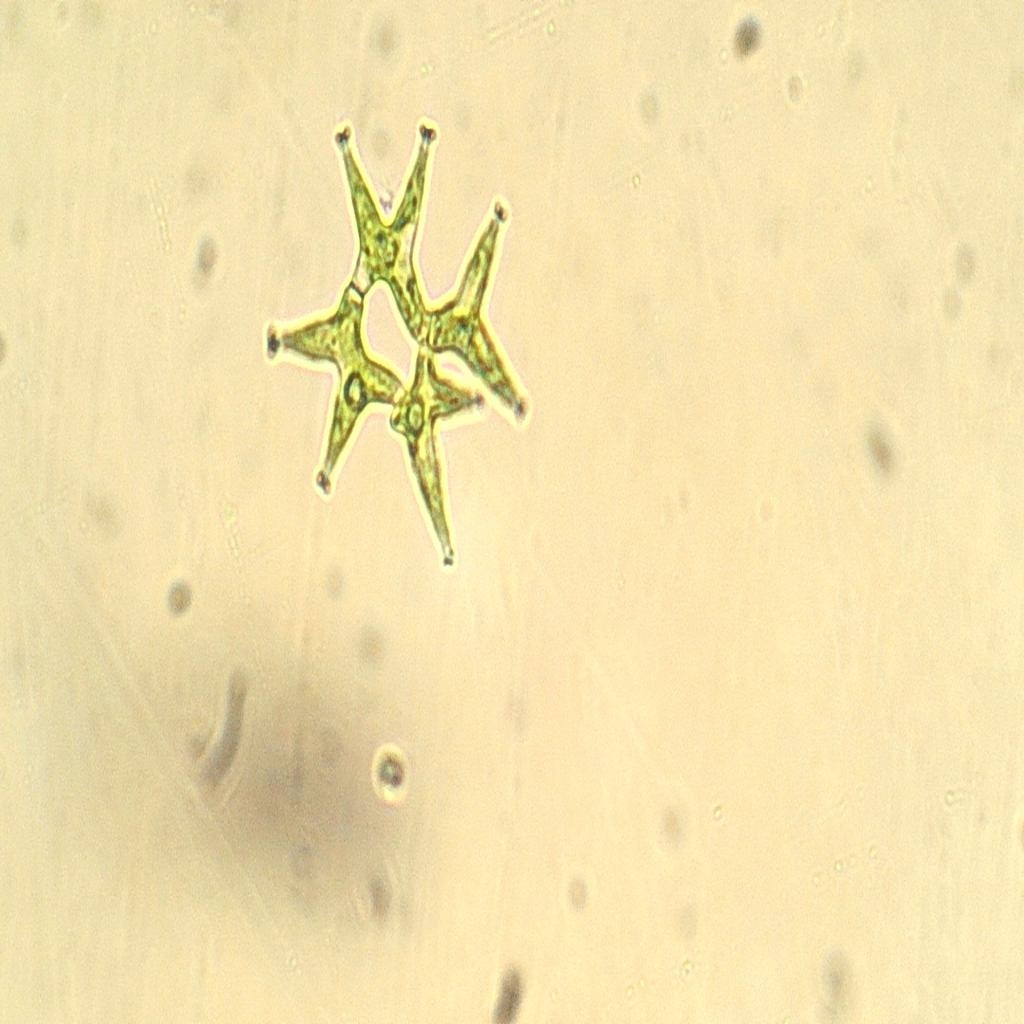Pediastrum_75FI: (248, 77, 558, 594)
